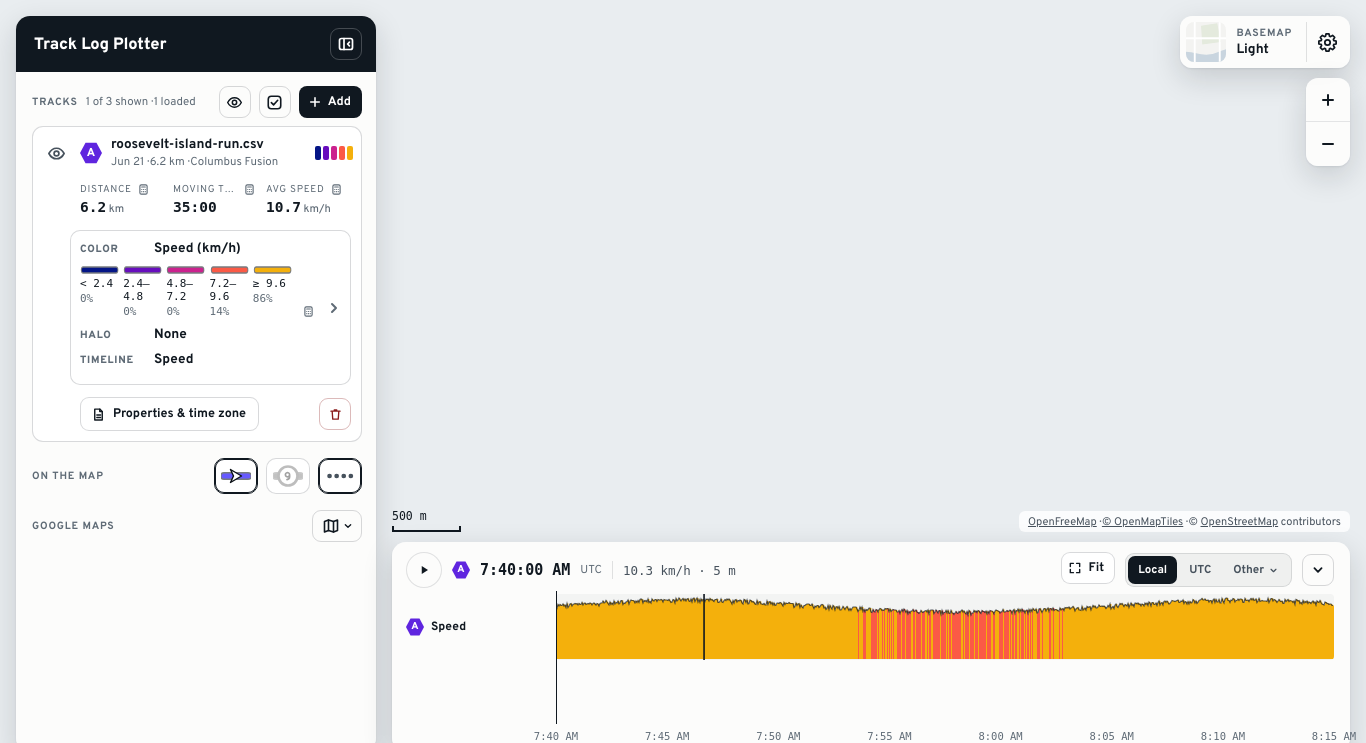
Scenario: tracks panel › lets the time zone of a Columbus Fusion log be changed on its properties page
Note: The button says the time zone is set there.
Click the button "Properties & time zone": (170, 414) [80, 397, 259, 431]
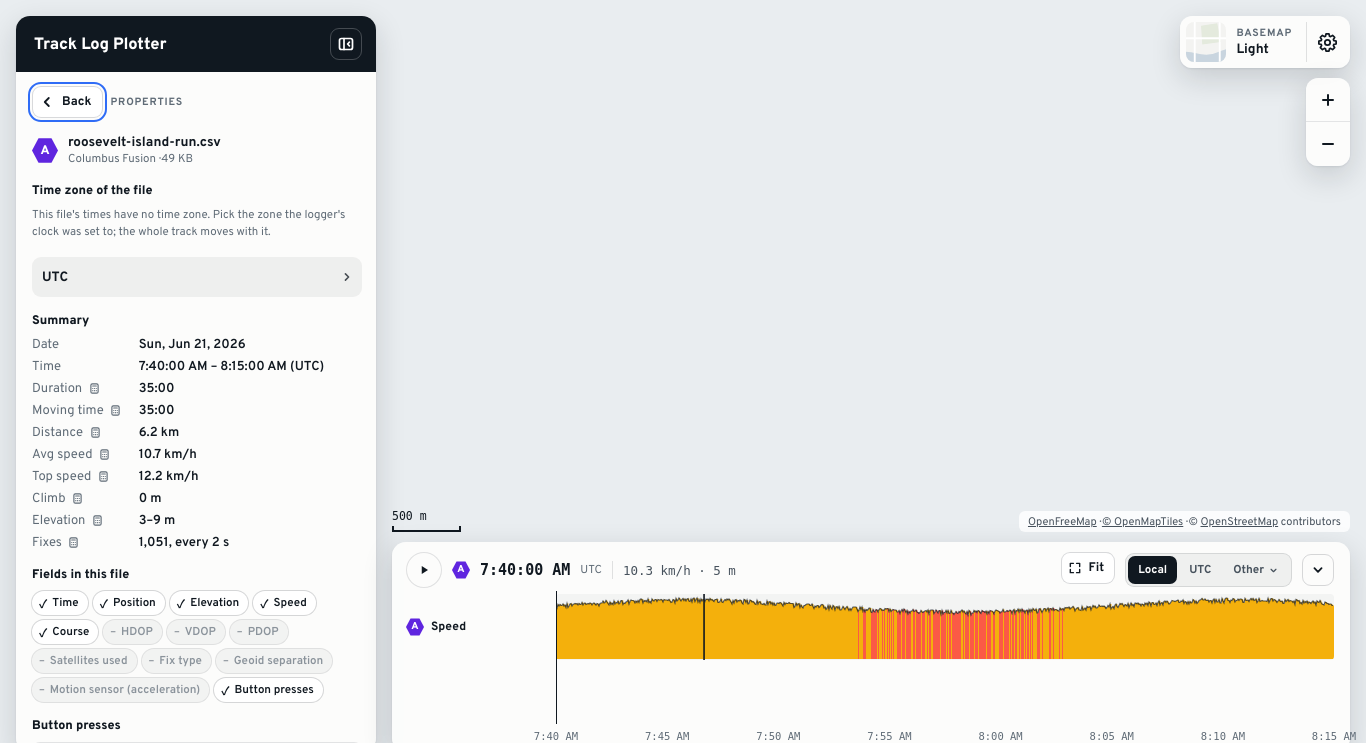
Check: the heading "Time zone of the file" is shown, box [32, 183, 153, 199]
Check: the button "UTC" below "Time zone of the file" is shown
Click the button "UTC" below "Time zone of the file": (55, 277) [32, 257, 362, 297]
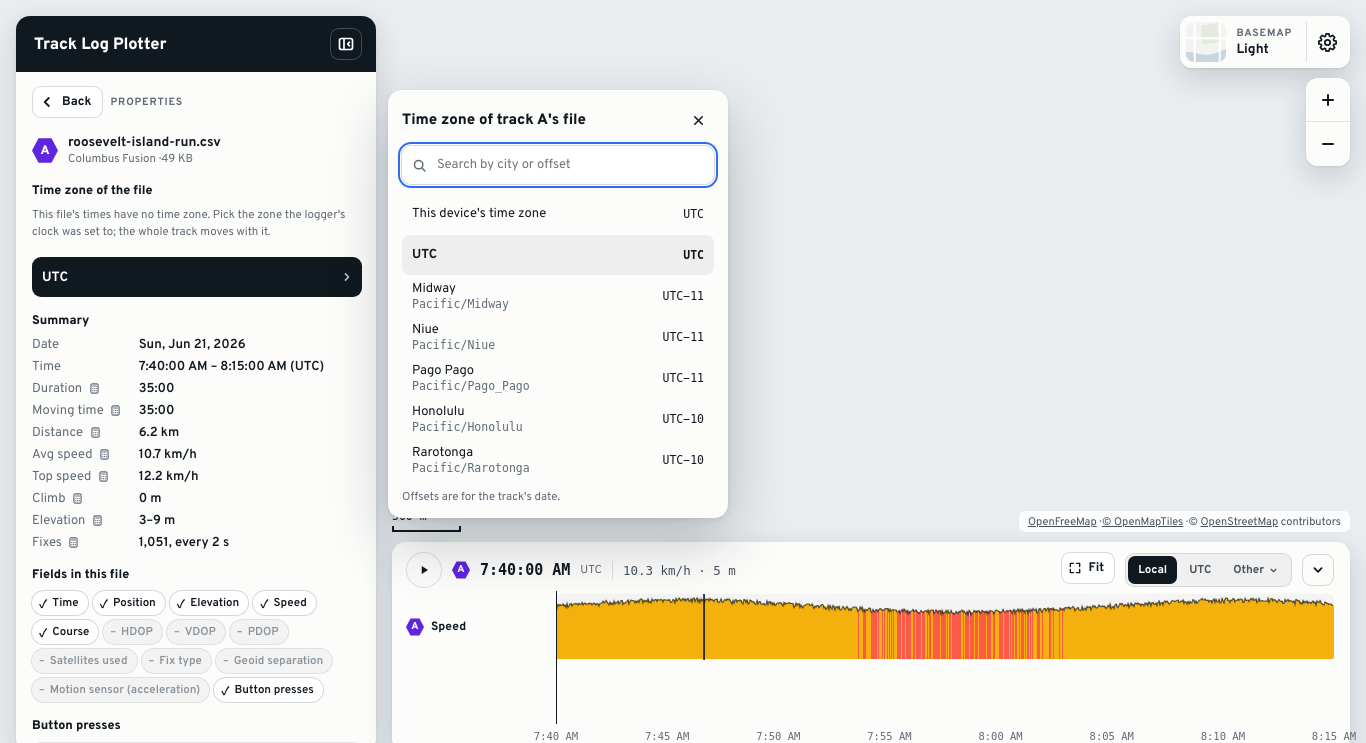
In the search field: (570, 165) [435, 149, 704, 181], type "tokyo"
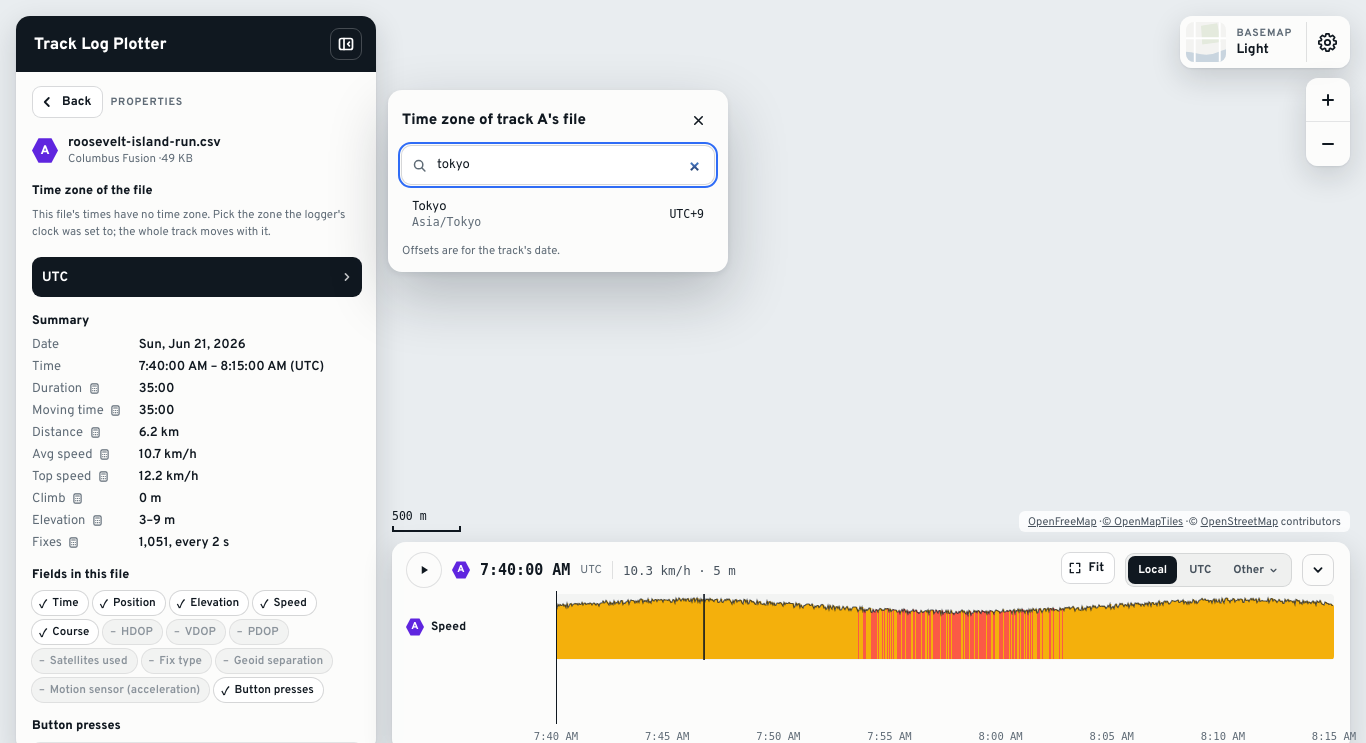
Click the radio button labelled "Tokyo Asia/Tokyo UTC+9": (429, 207) [402, 194, 714, 234]
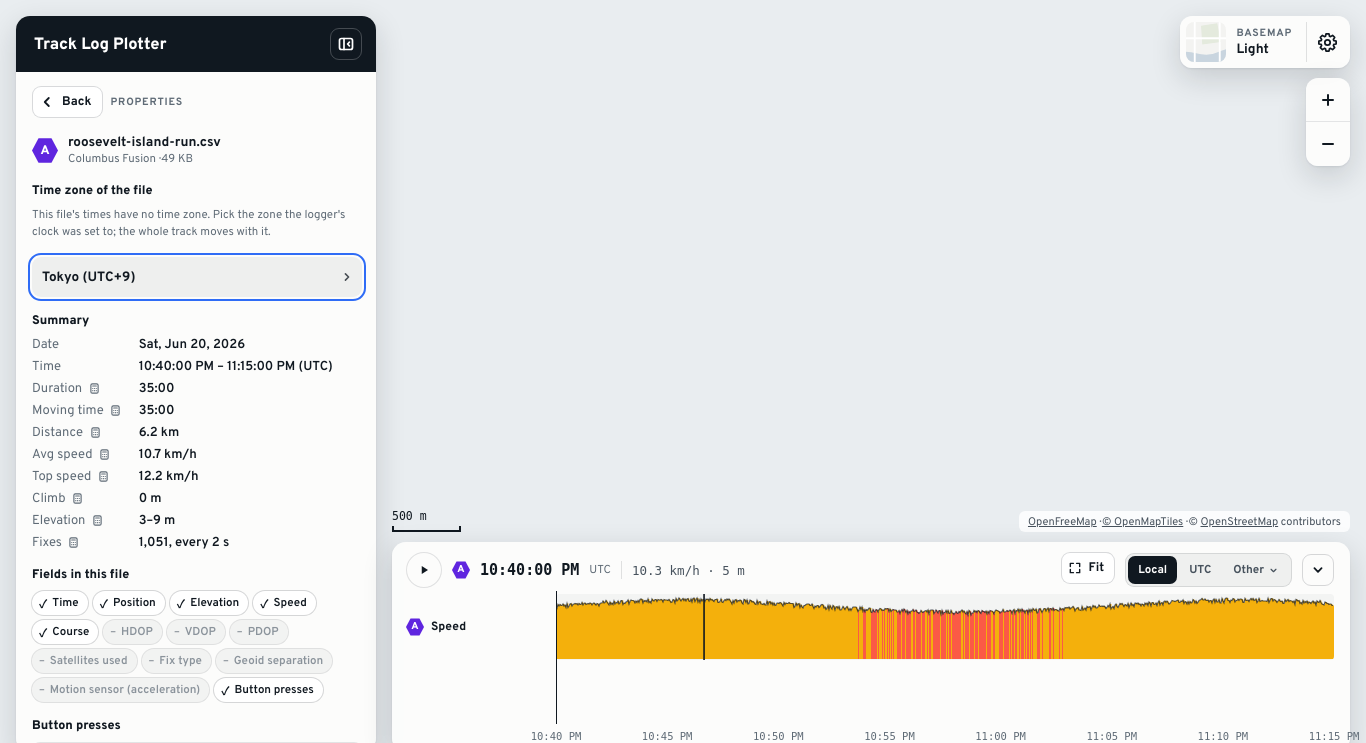
Check: the button "Tokyo (UTC+9)" is shown, box [32, 257, 362, 297]
